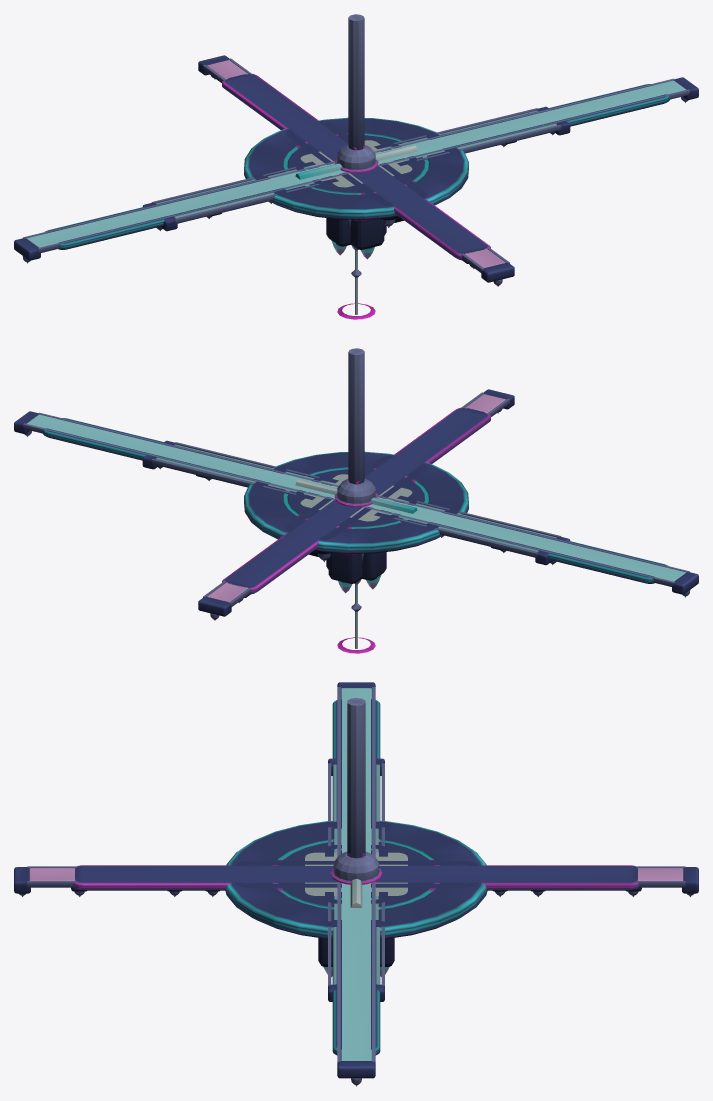
The model's file is core-3-CljiKHo8.glb.
The picture shows the model from 3 angles, top to bottom: view 1: azimuth 30°, elevation 25°; view 2: azimuth 150°, elevation 25°; view 3: azimuth 270°, elevation 25°; orthographic projection. The views are drawn at different scales.
Parts seen in each view (by area): view 1: beam_48x1.5x2#1, disc_14x1.5#1, block_2.5x2x30_grate#0, press_2x6x4#0, block_44x2x2.5_grate#1, beam_29x1.5x3#0, beam_2x1.5x36#0, block_4x2x13.5#0, barHub_9x1.2#0, beam_13.100000000000364x1.5x3#1, press_3.5x6x2#0, barHub_4.4x1.2#0 (+1 smaller); view 2: beam_48x1.5x2#1, disc_14x1.5#1, block_2.5x2x30_grate#0, press_2x6x4#0, block_44x2x2.5_grate#1, beam_29x1.5x3#0, beam_2x1.5x36#0, block_4x2x13.5#0, barHub_9x1.2#0, beam_13.100000000000364x1.5x3#1, press_3.5x6x2#0, barHub_4.4x1.2#0 (+1 smaller); view 3: disc_14x1.5#1, block_2.5x2x30_grate#0, beam_48x1.5x2#1, press_2x6x4#0, beam_2x1.5x36#0, block_44x2x2.5_grate#1, beam_29x1.5x3#0, block_4x2x13.5#0, barHub_4.4x1.2#0, beam_13.100000000000364x1.5x3#1, barHub_9x1.2#0.
Part boxes in pixels (x1,y1,x2,y2): beam_48x1.5x2#1: (14,77,698,263); disc_14x1.5#1: (244,117,468,227); block_2.5x2x30_grate#0: (222,73,490,260); press_2x6x4#0: (348,14,384,259); block_44x2x2.5_grate#1: (45,84,669,249); beam_29x1.5x3#0: (142,106,570,231); beam_2x1.5x36#0: (198,55,514,286); block_4x2x13.5#0: (285,122,427,227); barHub_9x1.2#0: (295,145,417,179); beam_13.100000000000364x1.5x3#1: (256,134,456,203); press_3.5x6x2#0: (326,218,386,255); barHub_4.4x1.2#0: (334,143,378,172); beam_48x1.5x2#1: (14,411,698,597); disc_14x1.5#1: (244,451,468,561); block_2.5x2x30_grate#0: (222,407,490,594); press_2x6x4#0: (328,348,364,593); block_44x2x2.5_grate#1: (43,418,667,583); beam_29x1.5x3#0: (142,440,570,565); beam_2x1.5x36#0: (198,389,514,620); block_4x2x13.5#0: (285,456,427,561); barHub_9x1.2#0: (295,479,417,513); beam_13.100000000000364x1.5x3#1: (256,468,456,537); press_3.5x6x2#0: (326,552,386,589); barHub_4.4x1.2#0: (334,477,378,506); disc_14x1.5#1: (225,820,487,939); block_2.5x2x30_grate#0: (73,865,639,890); beam_48x1.5x2#1: (337,682,375,1086); press_2x6x4#0: (318,698,394,976); beam_2x1.5x36#0: (14,866,698,896); block_44x2x2.5_grate#1: (332,699,380,1055); beam_29x1.5x3#0: (328,758,384,1001); block_4x2x13.5#0: (235,860,477,890); barHub_4.4x1.2#0: (330,851,382,884); beam_13.100000000000364x1.5x3#1: (328,822,384,925); barHub_9x1.2#0: (334,852,378,907).
Bounding box in the file's own units: 48 × 20.3 × 36.
